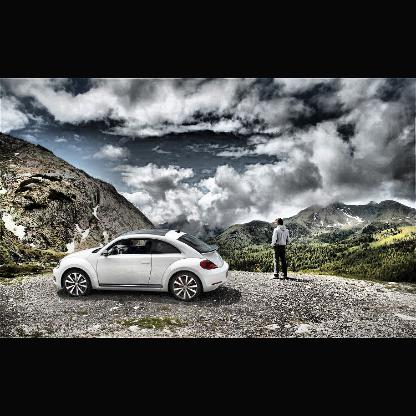Volkswagen Beetle Hatchback 2012: (52, 228, 232, 305)
